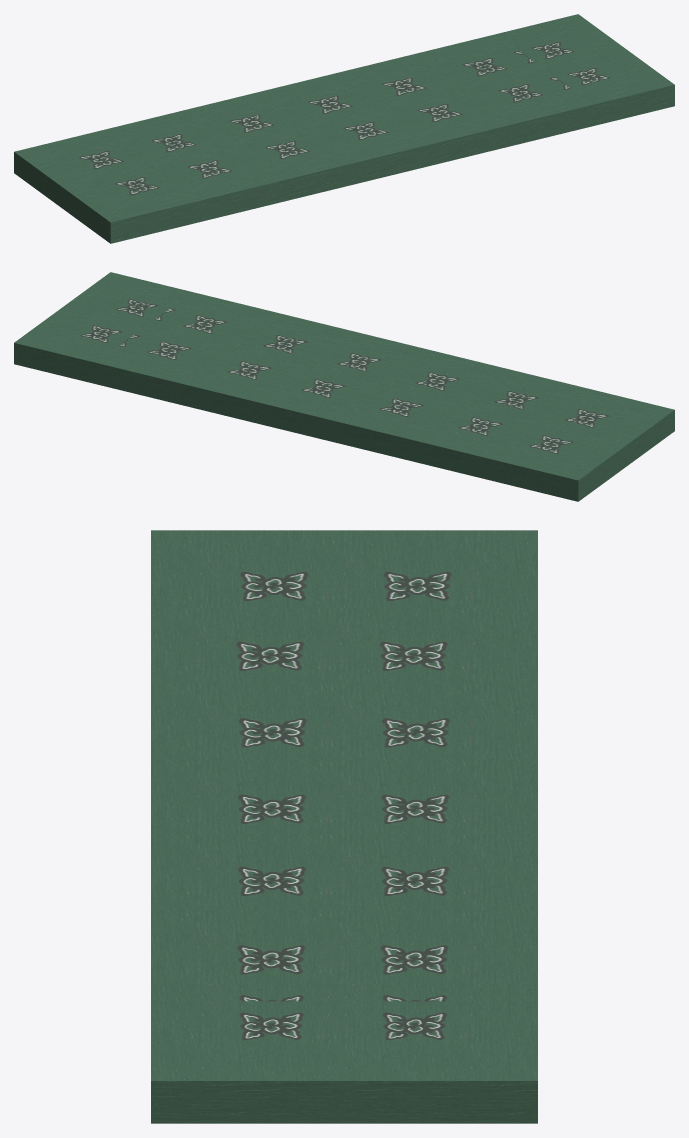
Rendered from SM_Ceiling01b.fbx.
The picture shows the model from 3 angles, top to bottom: view 1: azimuth 30°, elevation 25°; view 2: azimuth 150°, elevation 25°; view 3: azimuth 270°, elevation 25°; orthographic projection. The views are drawn at different scales.
Visible parts, largest first — view 1: SM_Ceiling01b; view 2: SM_Ceiling01b; view 3: SM_Ceiling01b.
Part boxes in pixels (x1,y1,x2,y2): SM_Ceiling01b: [14, 14, 674, 243]; SM_Ceiling01b: [14, 272, 674, 501]; SM_Ceiling01b: [151, 530, 537, 1123].
Bounding box in the file's own units: 337 × 100 × 14.94.
1 material, 1 textured.
